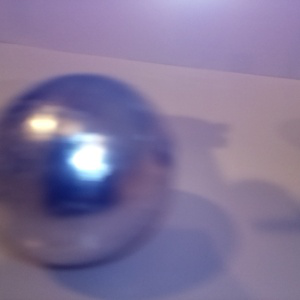alive_ball: (1, 74, 175, 267)
